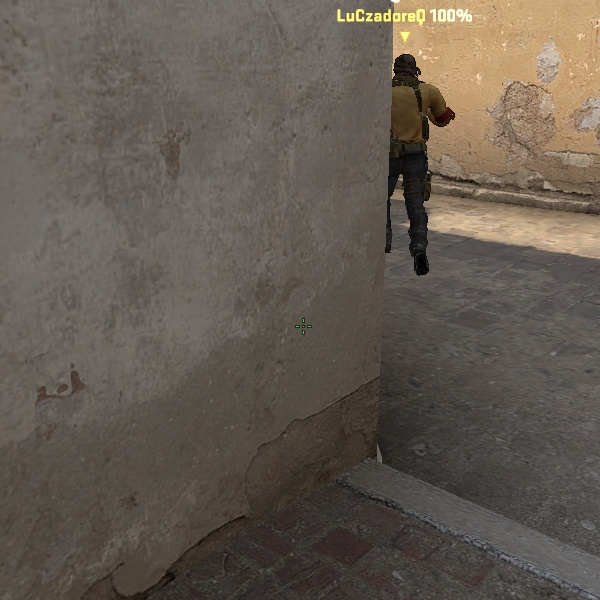t_body: (392, 52, 454, 274)
t_head: (392, 53, 422, 88)
